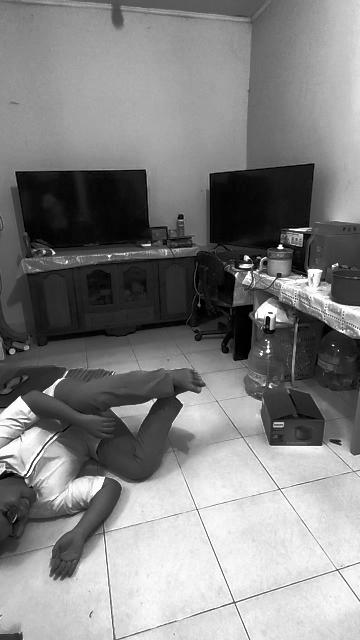jatuh: (0, 370, 214, 582)
